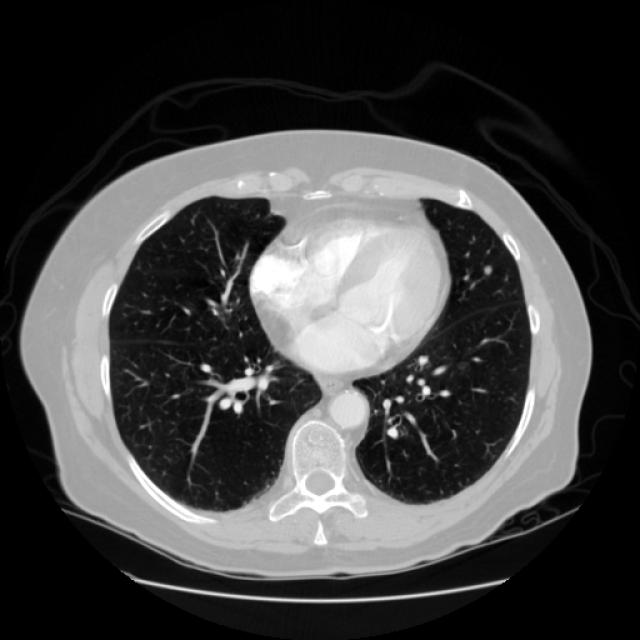nodule: (475, 258, 497, 280)
